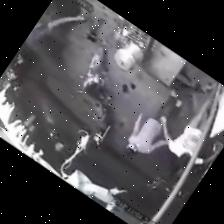person: (162, 89, 215, 167), (126, 90, 182, 154), (25, 15, 85, 48)
